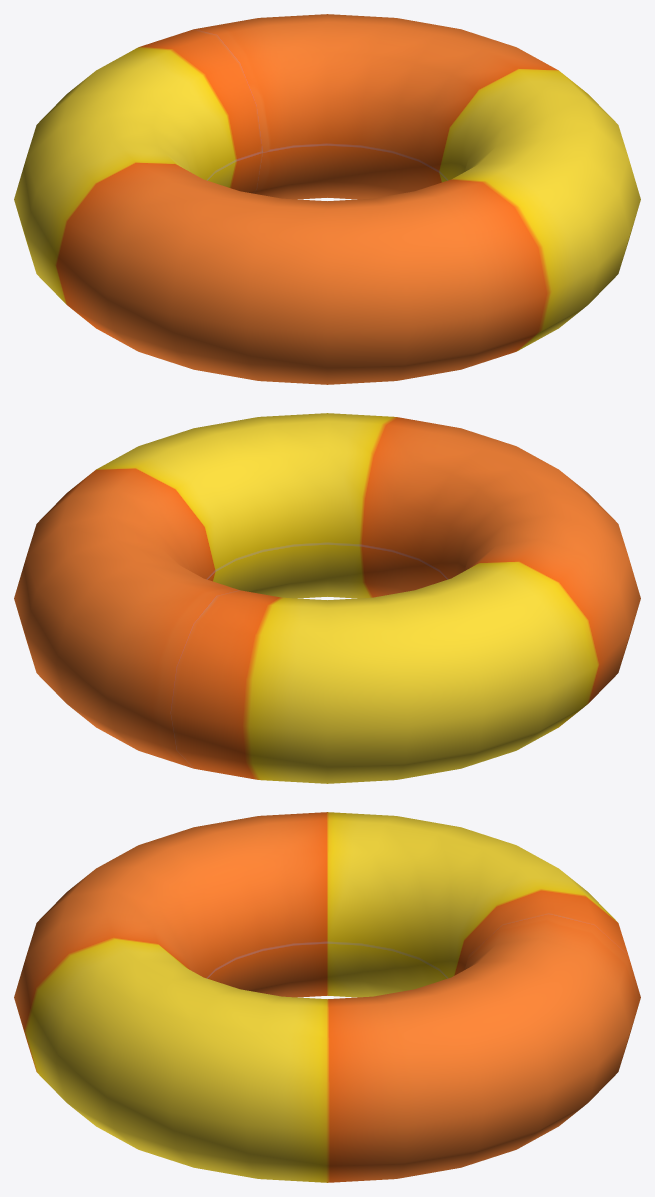
File: SAVE_TRUST.fbx
The picture shows the model from 3 angles, top to bottom: view 1: azimuth 30°, elevation 25°; view 2: azimuth 150°, elevation 25°; view 3: azimuth 270°, elevation 25°; orthographic projection.
Parts seen in each view (by area): view 1: FLOAT_SAVE_TRUST; view 2: FLOAT_SAVE_TRUST; view 3: FLOAT_SAVE_TRUST.
Part boxes in pixels (x1=…): FLOAT_SAVE_TRUST: x1=14, y1=14, x2=640, y2=384; FLOAT_SAVE_TRUST: x1=14, y1=413, x2=640, y2=783; FLOAT_SAVE_TRUST: x1=14, y1=812, x2=640, y2=1182.
Size of the model in its own units: 170 by 50 by 170.
